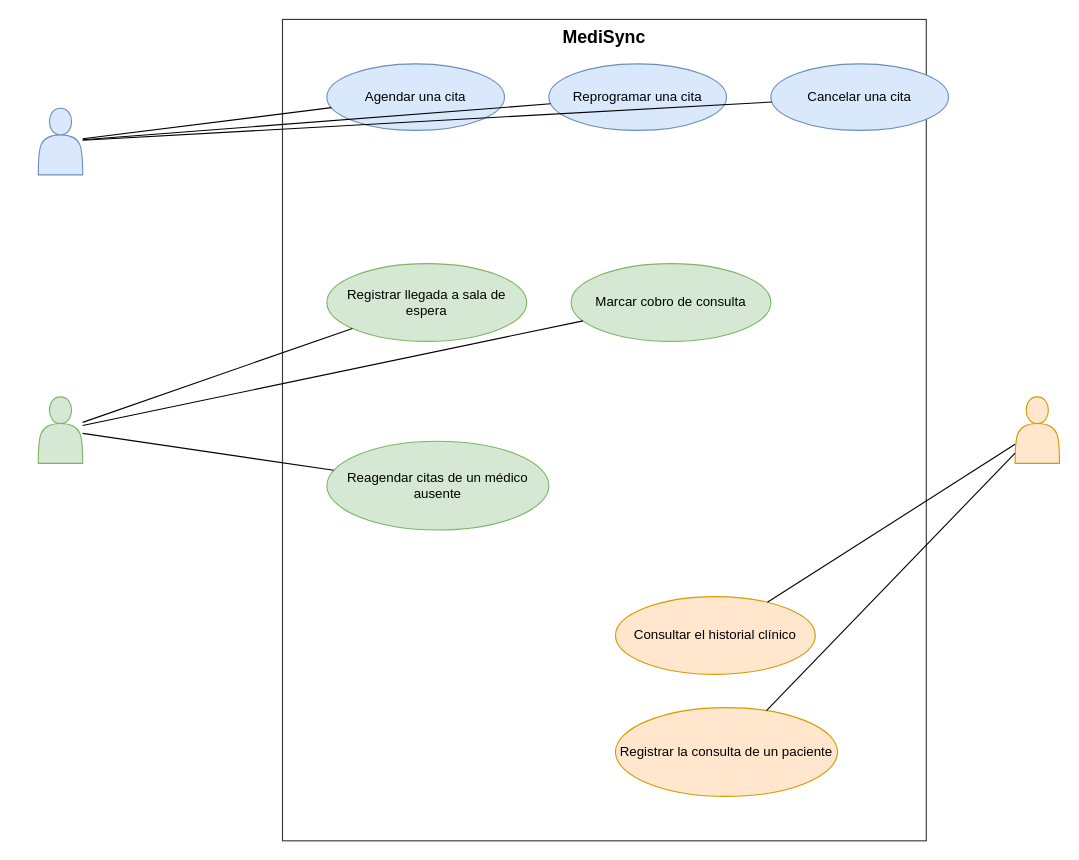
The diagram is 1079 pixels wide and 860 high, and some of its shapes have lost their labels. The shapes that lost their labels are listed below. From the top down, each one's centre as x and y in pixels, then its label:
pixel 60 141: Paciente
pixel 60 429: Recepcionista
pixel 1036 429: Médico
